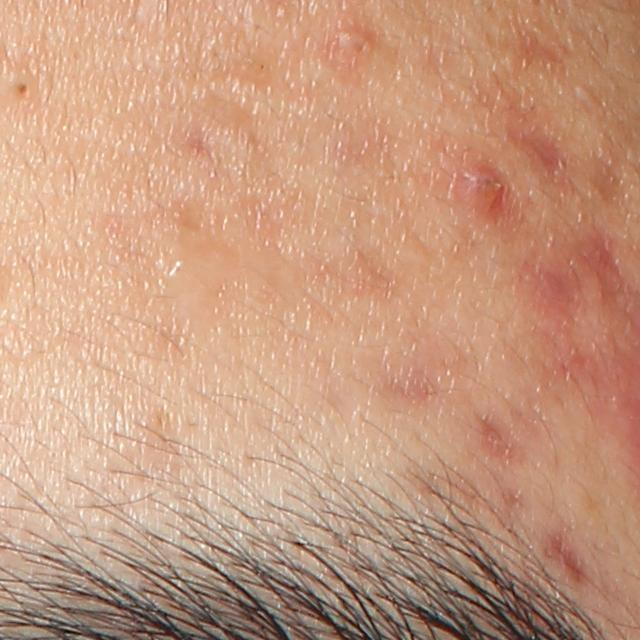atrophic_scar: (587, 146, 636, 207), (475, 402, 522, 465), (514, 126, 564, 185), (548, 532, 598, 587)
comedo: (6, 70, 38, 104)
papule: (448, 164, 515, 231), (331, 24, 376, 62)
